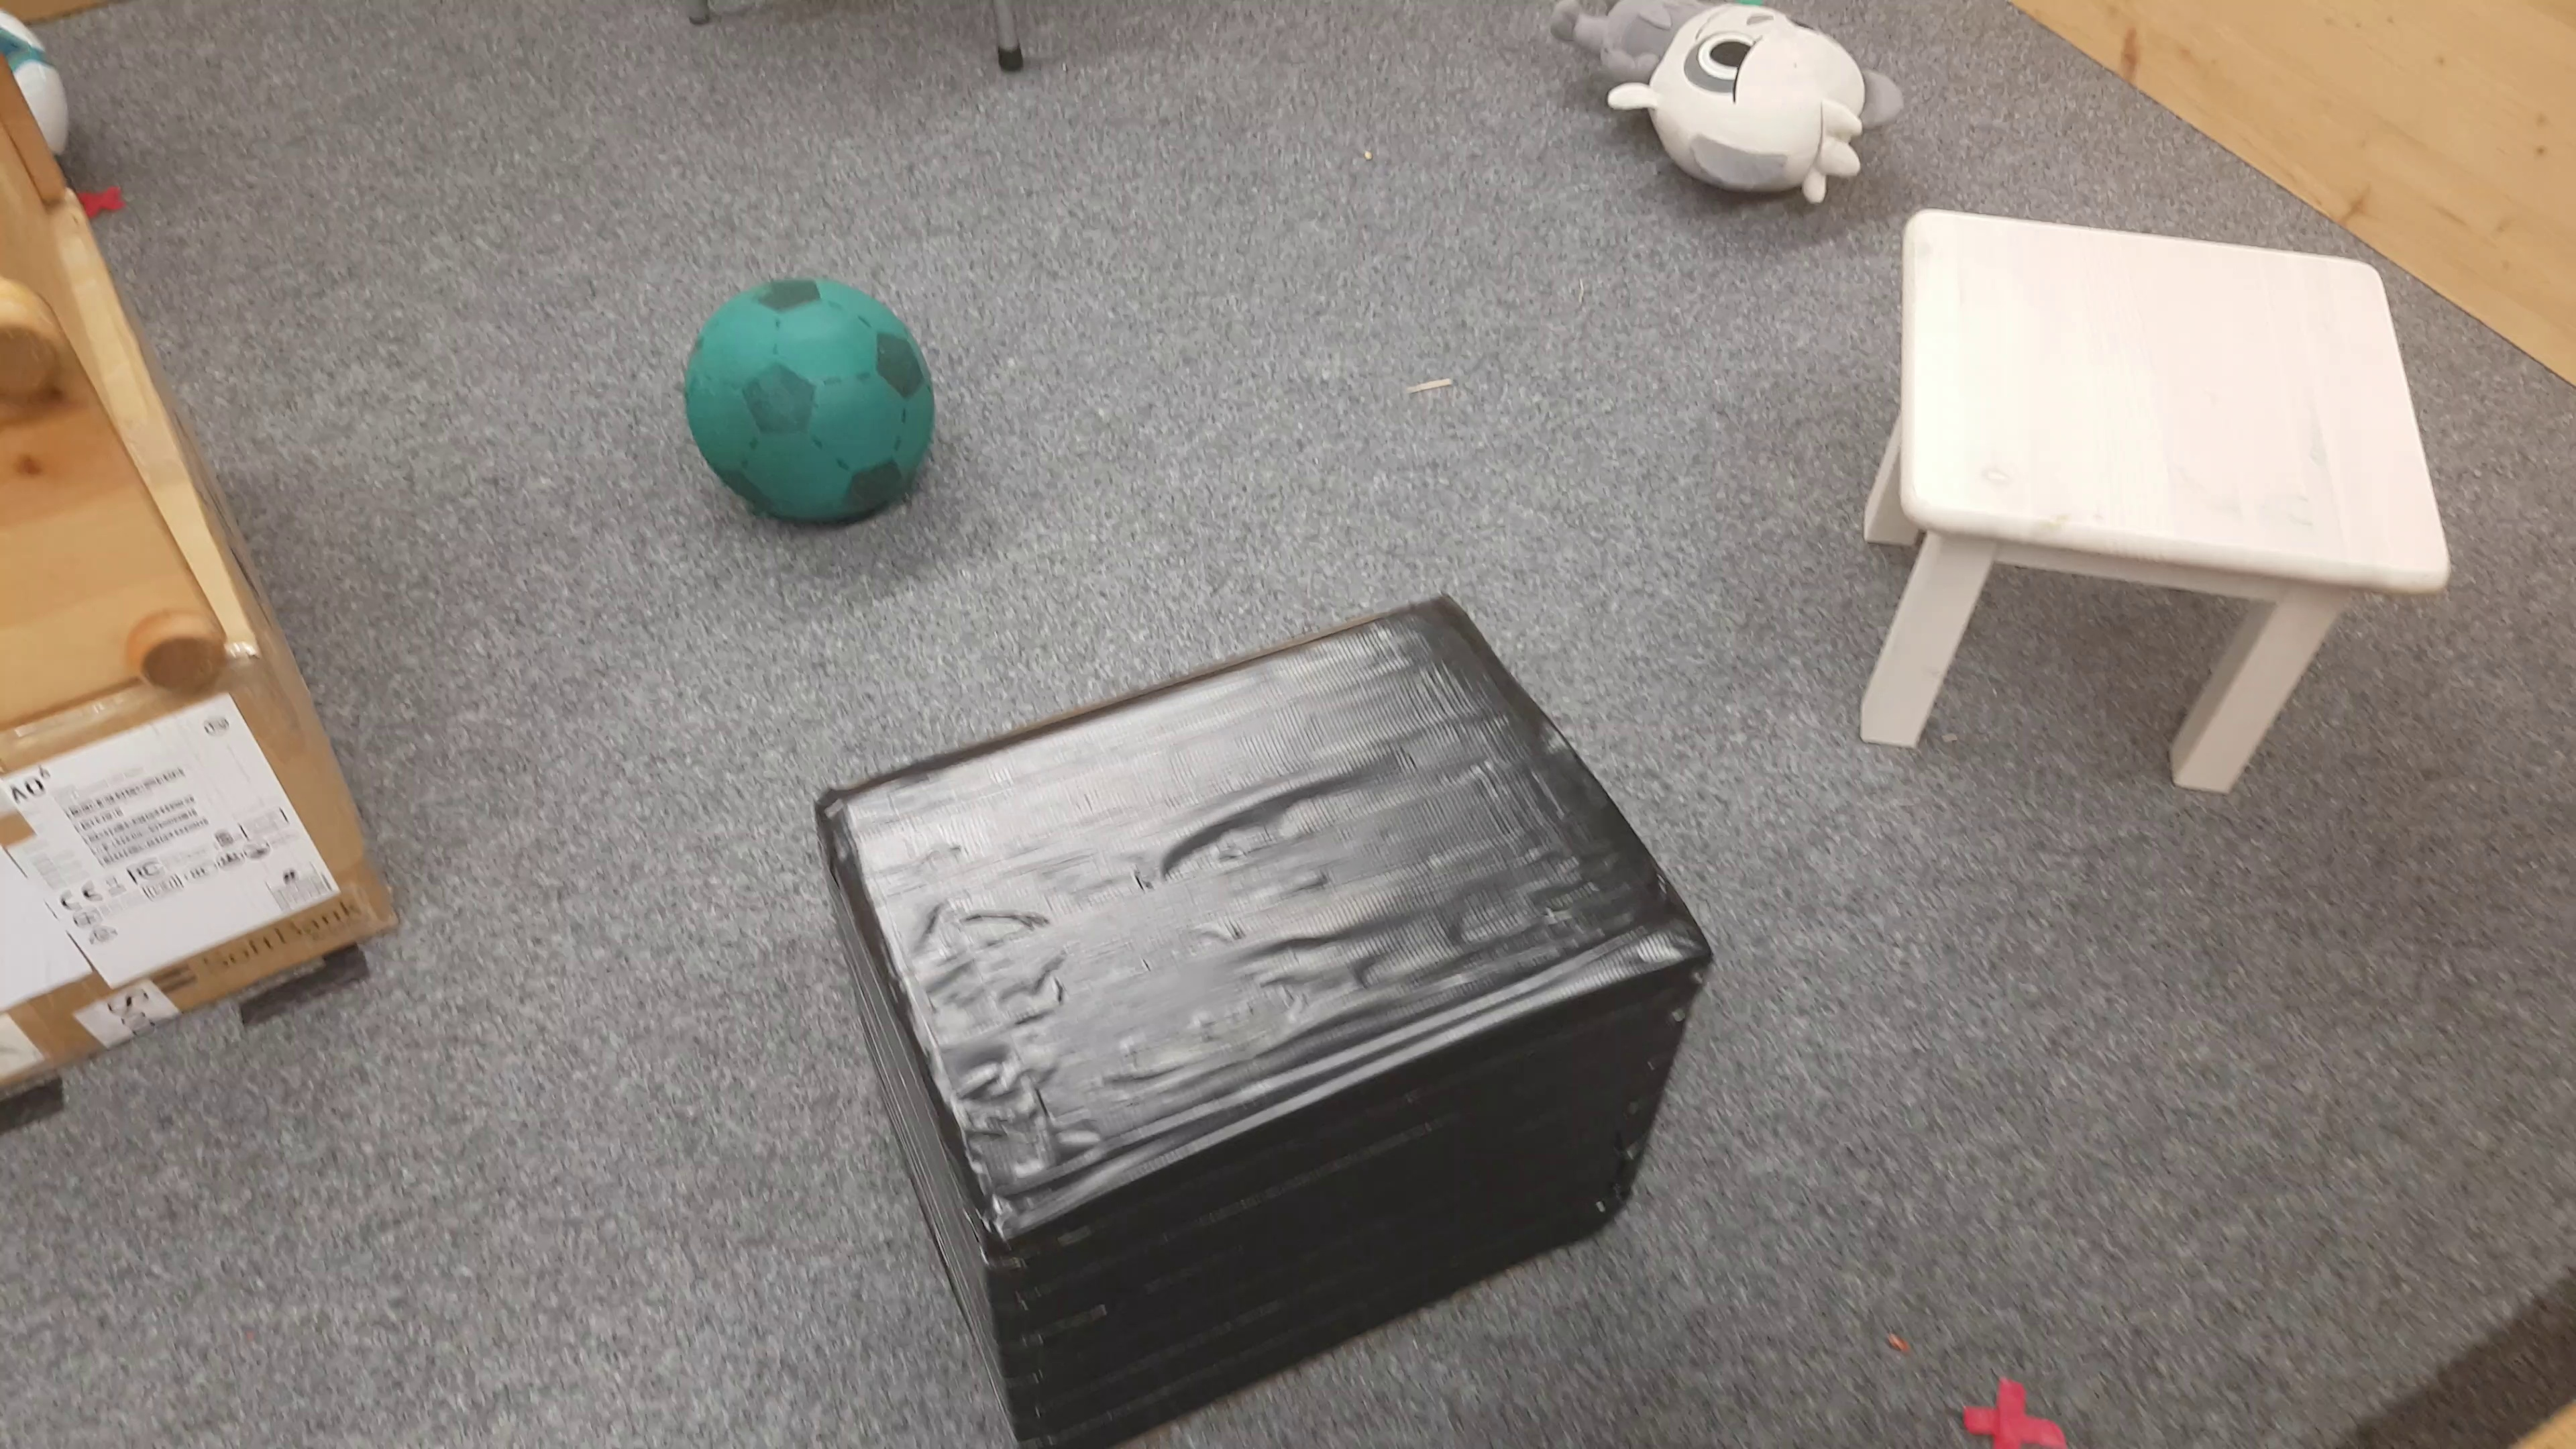grasp: (1553, 2, 1907, 214)
kick: (683, 278, 941, 522)
push: (821, 596, 1709, 1449)
